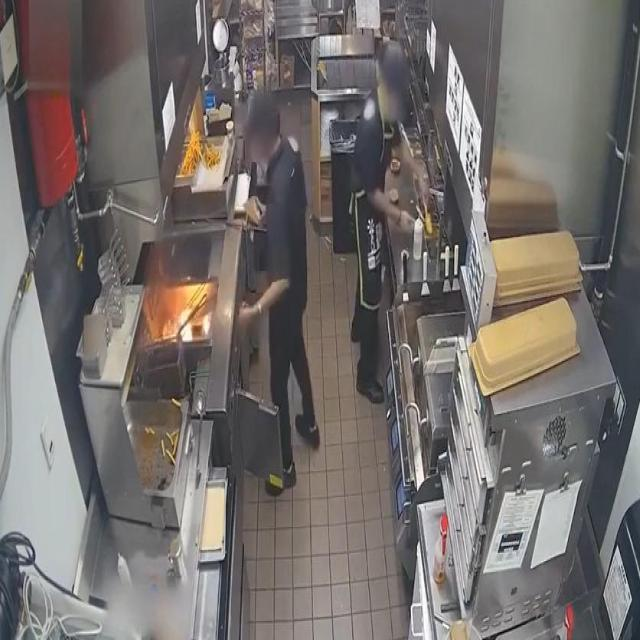smoke: (176, 305, 195, 342), (160, 318, 174, 337)
